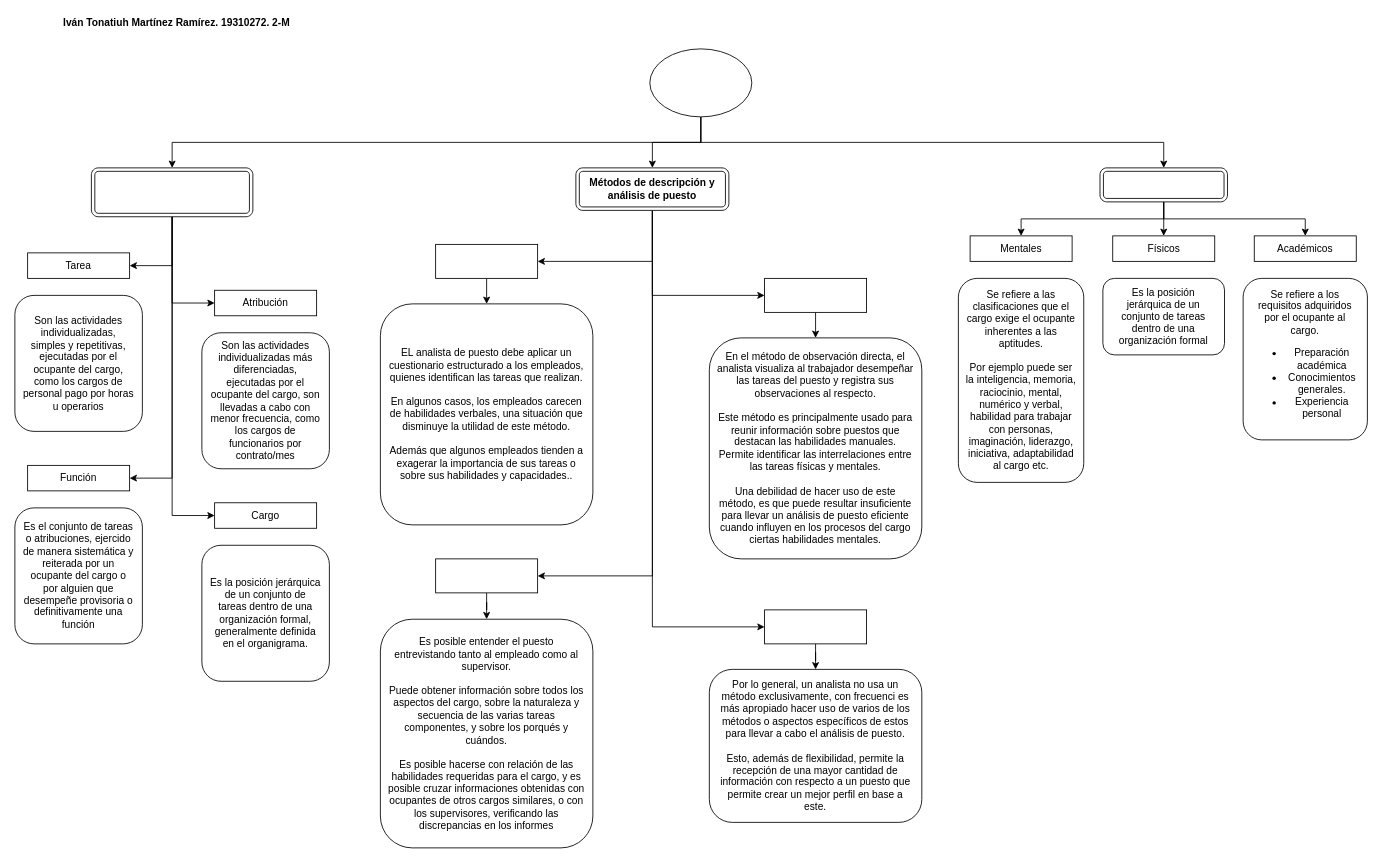
Image size: 1383x863. Some labels were removed from this diagram. Here are the shapes that lost their labels. From the top down, the centre of each, then its label:
At (700,82): "Descripción de Puestos".
At (172,192): "Conceptos básicos de la Descripción de Puestos".
At (1163,184): "Requisitos".
At (486,261): "Cuestionarios".
At (815,295): "Observación directa".
At (486,575): "Método de Entrevista Directa".
At (815,626): "Método Mixto".
